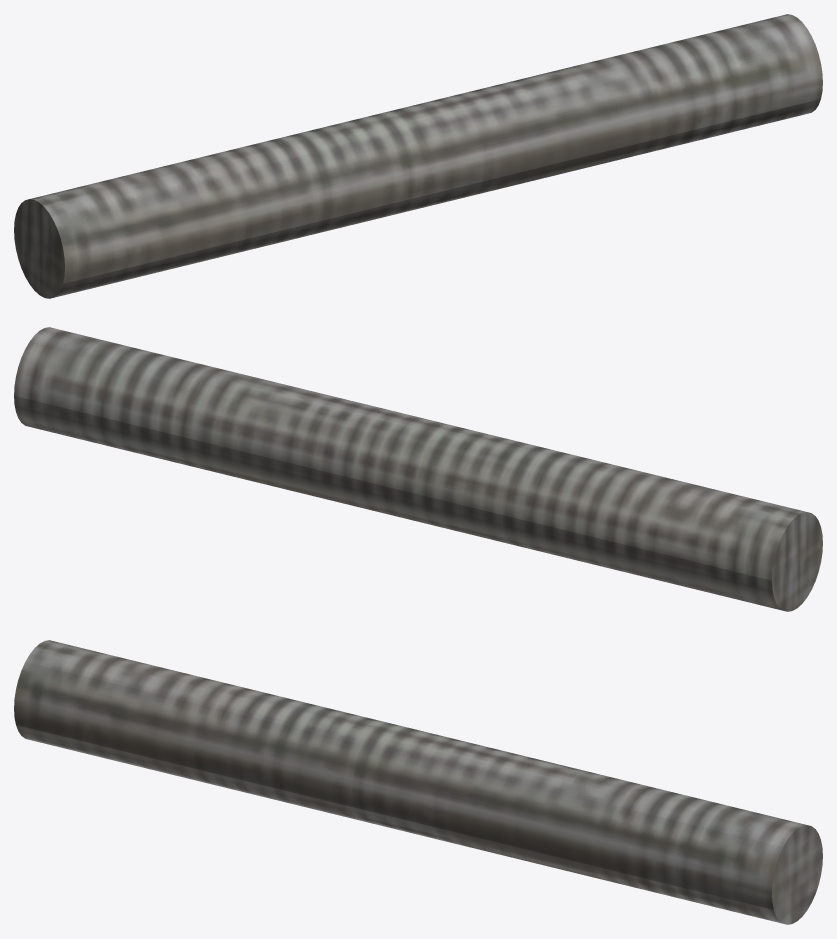
Rendered from lid__hinge_barrel_1.glb.
3 renders of one model, top to bottom at view 1: azimuth 30°, elevation 25°; view 2: azimuth 150°, elevation 25°; view 3: azimuth 330°, elevation 25°, orthographic.
Parts seen in each view (by area): view 1: geometry_0; view 2: geometry_0; view 3: geometry_0.
Boxes of the visible parts, box(x1,y1,x2,y2) form: geometry_0: box(14, 14, 822, 298); geometry_0: box(14, 327, 822, 611); geometry_0: box(14, 640, 822, 924).
Bounding box in the file's own units: 0.12 × 0.014 × 0.014.
1 material, 1 textured.
